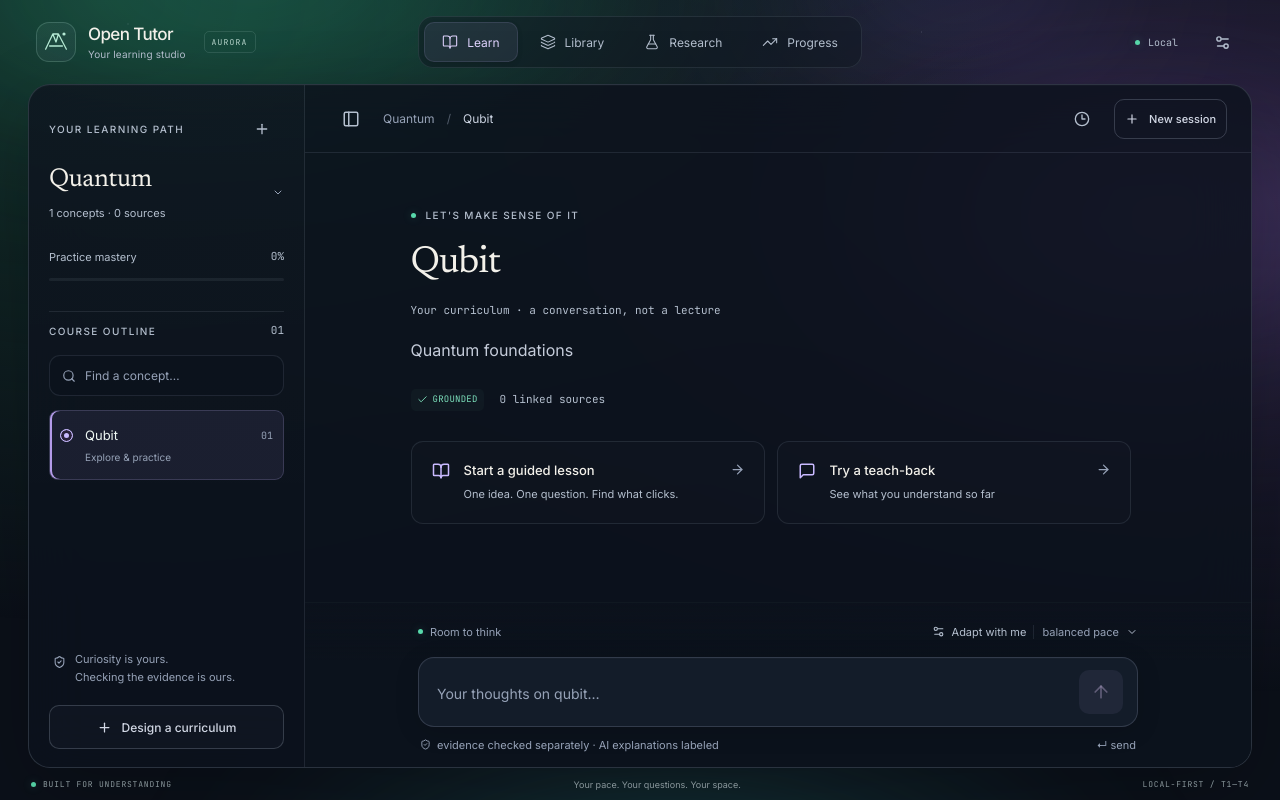
Test case: keeps the running job indicator when the readback after an accepted ask fails
The image size is (1280, 800).
Click the button "Start a guided lesson" at [529, 470], box [410,441,764,524]
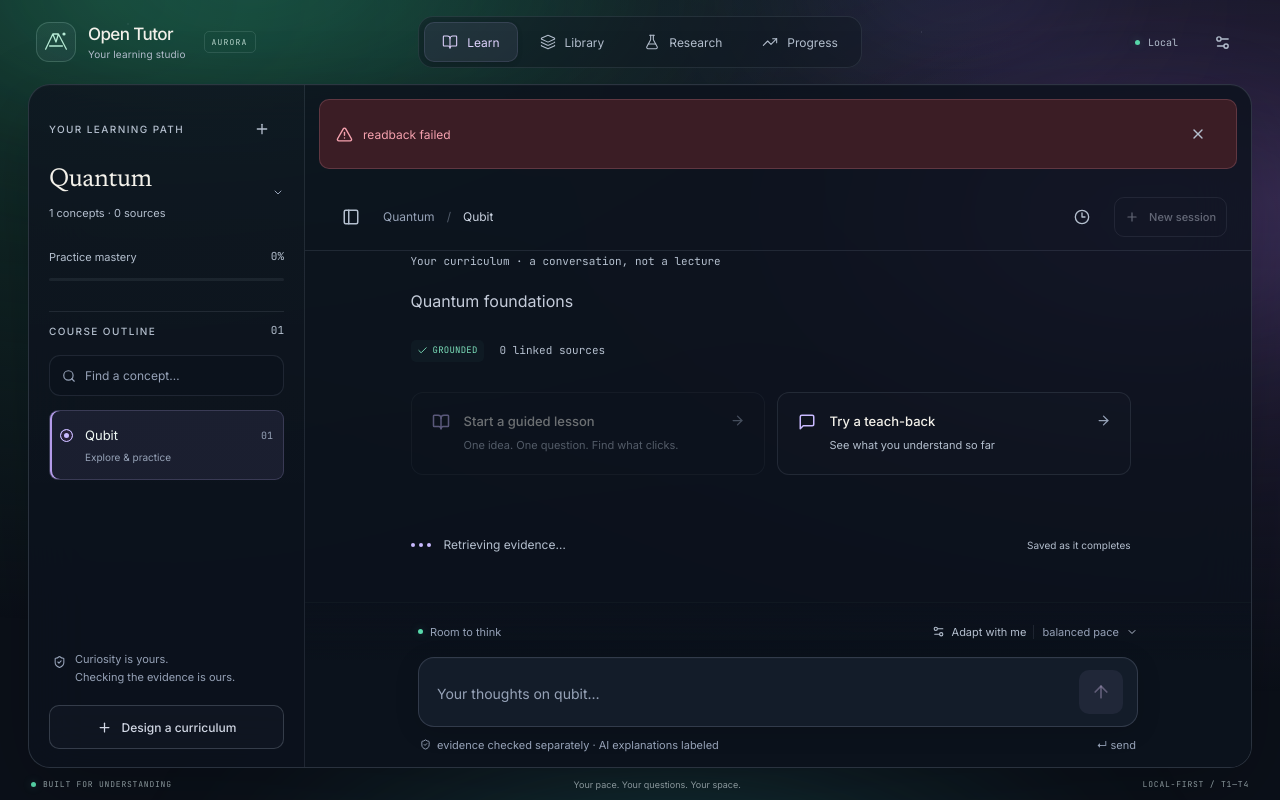
Result: the message "Retrieving evidence… Saved as it completes" is shown at [410,537,1130,552]
